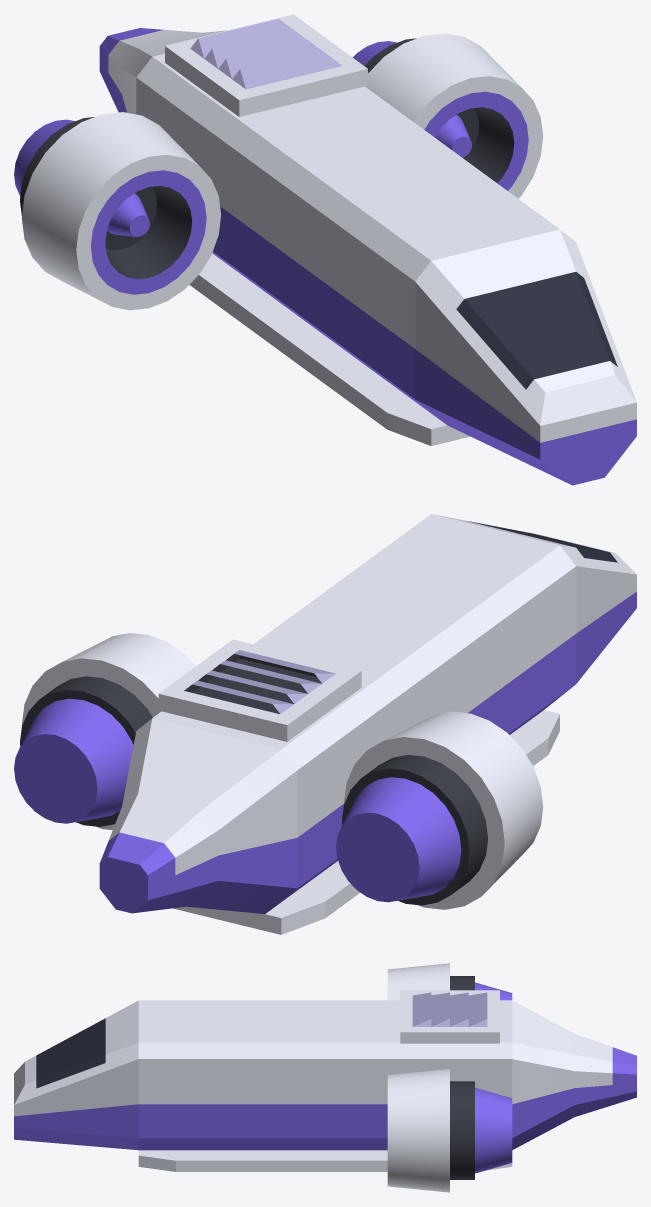
Rendered from mantis_ext.obj.
3 views of the same model, one above another, from view 1: azimuth 30°, elevation 25°; view 2: azimuth 150°, elevation 25°; view 3: azimuth 270°, elevation 25° (orthographic). The views are drawn at different scales.
Parts seen in each view (by area): view 1: mergedBlocks; view 2: mergedBlocks; view 3: mergedBlocks.
Part boxes in pixels (<box>): mergedBlocks: <box>14,14,636,485</box>; mergedBlocks: <box>14,514,636,934</box>; mergedBlocks: <box>14,963,636,1192</box>.
Bounding box in the file's own units: 3 × 1.25 × 5.
